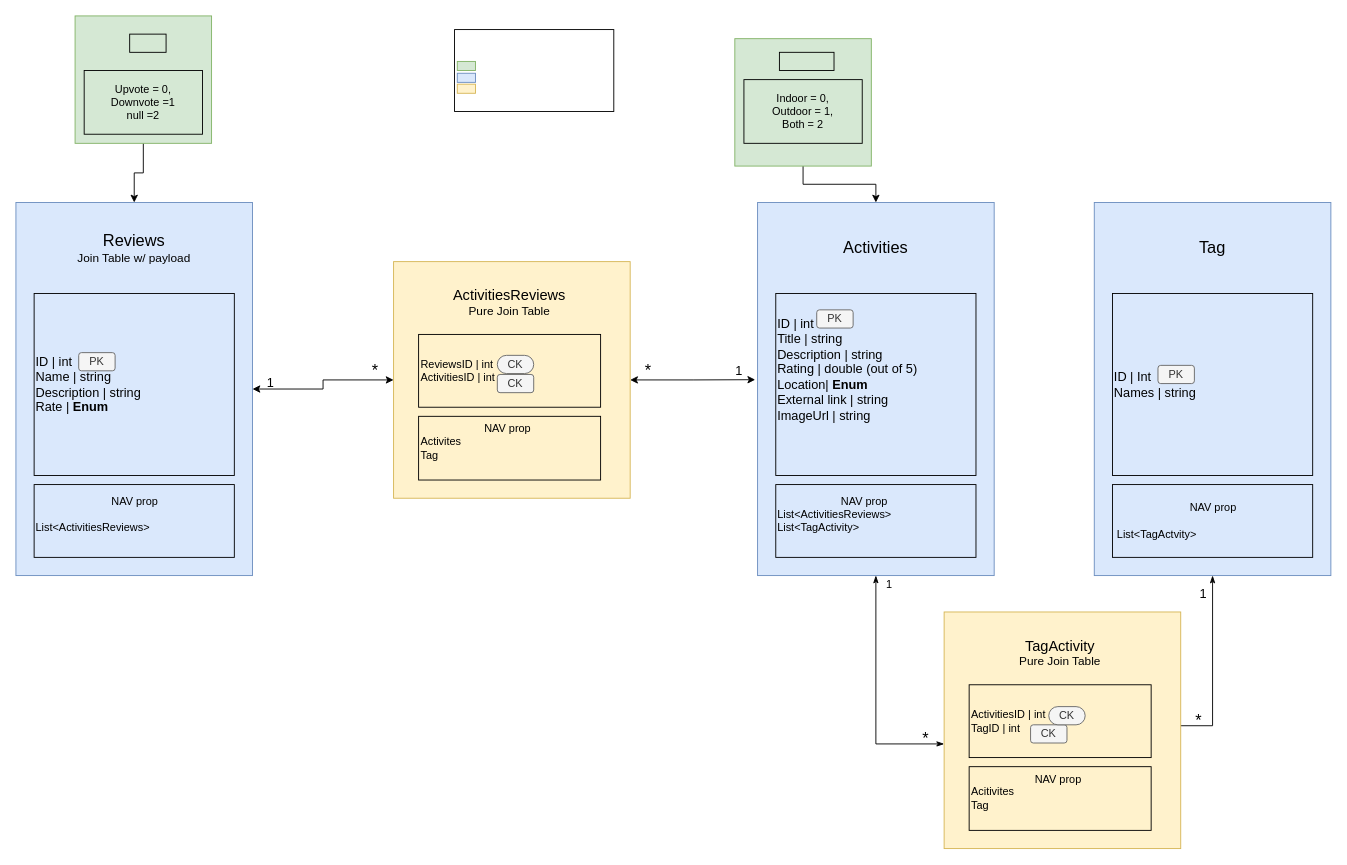
This 1347x865 diagram has some shape labels left out. Here are the shapes that lost their labels. From the top down, the box of each, then its label:
(129, 33, 166, 52): Rate
(779, 51, 834, 71): Location
(454, 29, 614, 111): LEGEND Enum Primary Key table Pure join table
